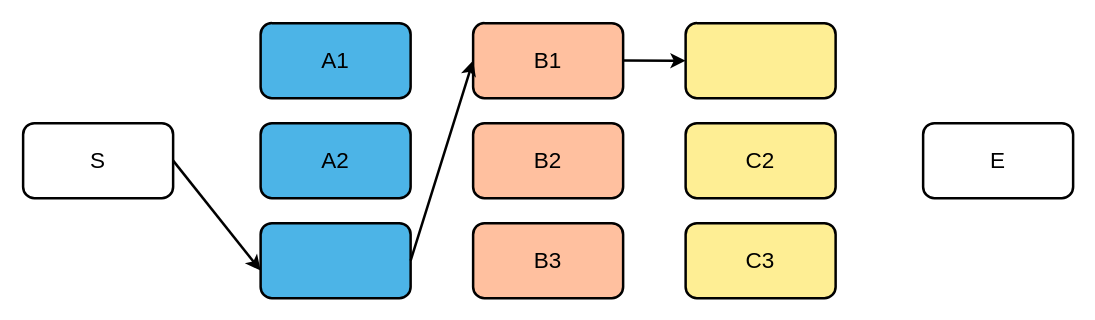
The diagram is 1095 pixels wide and 320 high, and some of its shapes have lost their labels. Here are the shapes that lost their labels. From the top down, the box of each, then its label:
(684, 21, 836, 99): C1
(259, 221, 411, 299): A3
